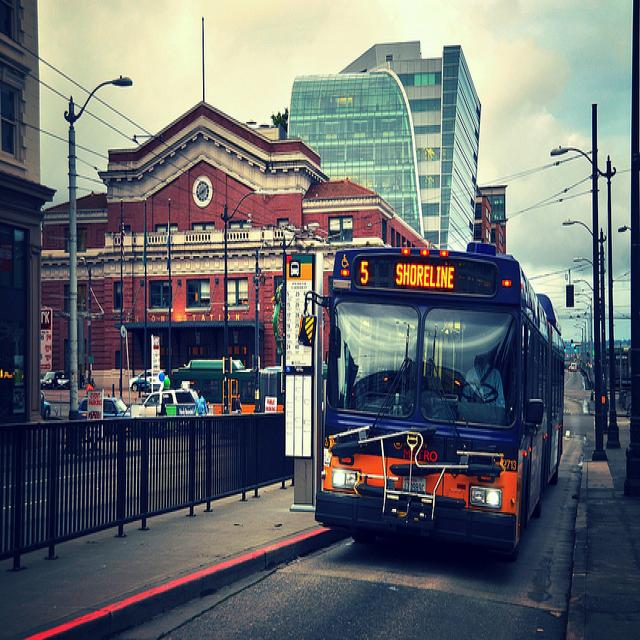AB: (321, 232, 574, 559)
